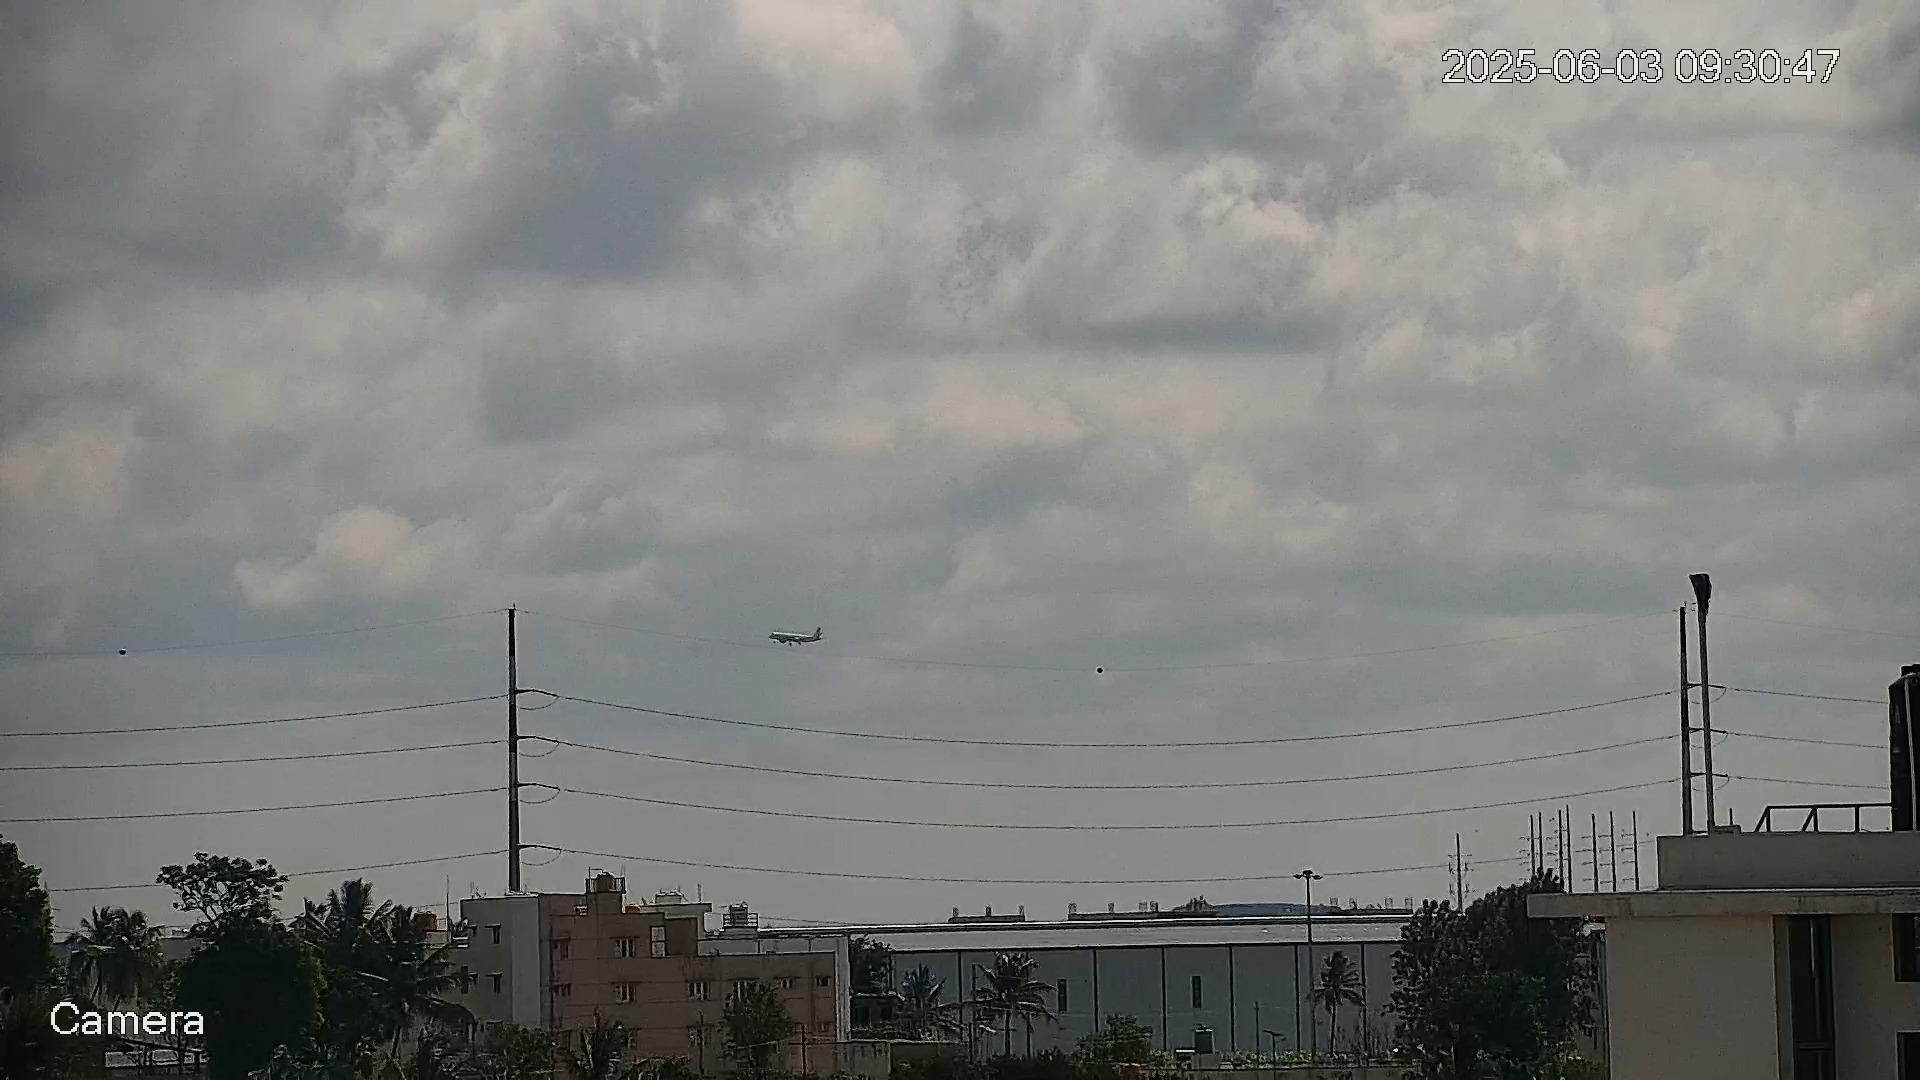Aircraft: (767, 626, 827, 647)
